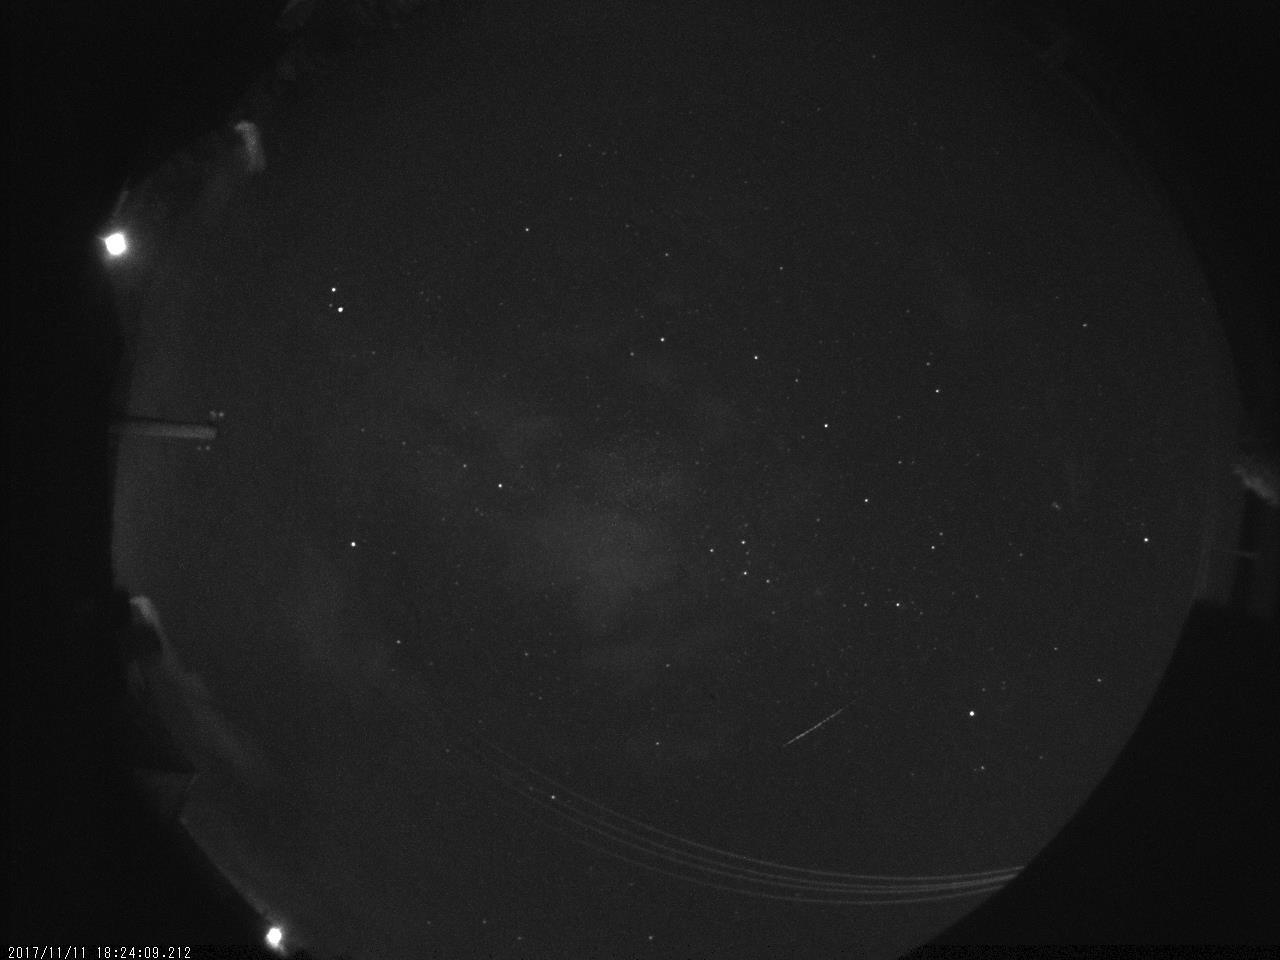Meteor: (777, 699, 855, 753)
